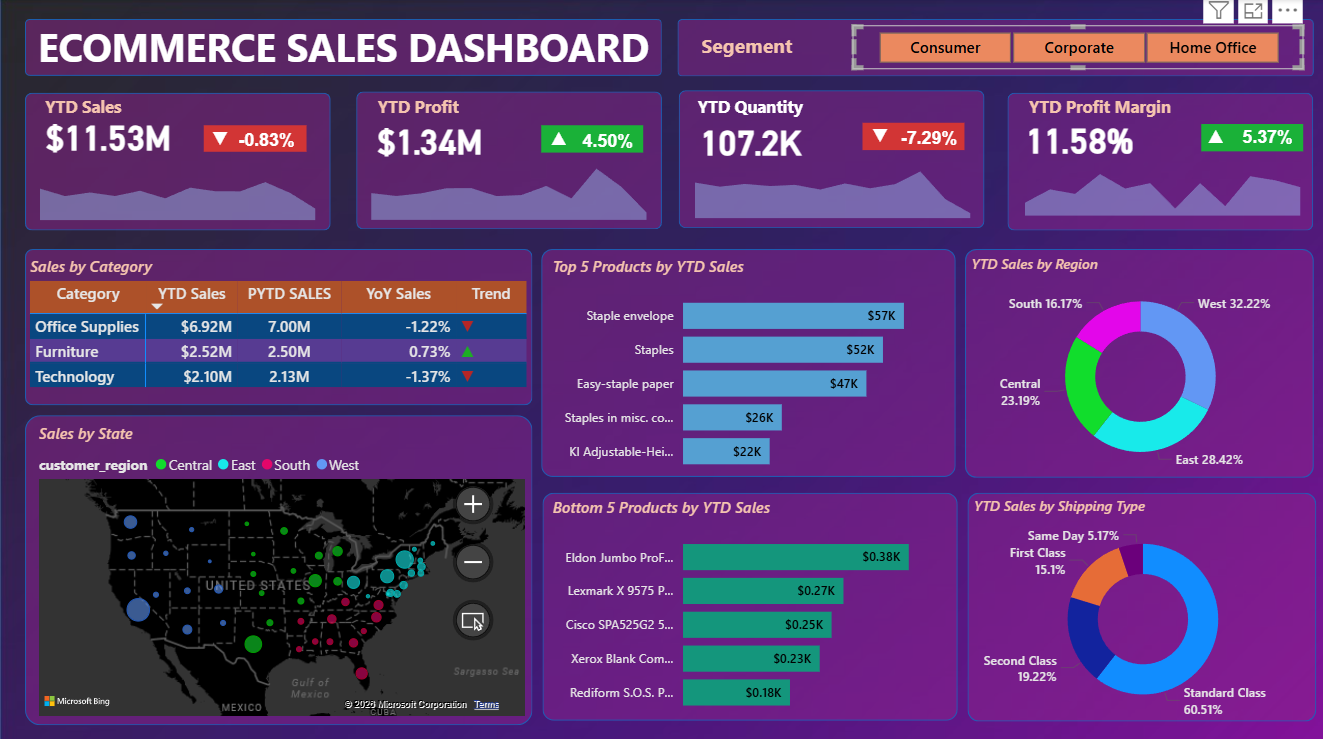

The dashboard page shown, as its layout file describes it:
{"tool":"powerbi","page":{"name":"Page 1","canvas":[1280,720],"ordinal":0},"visuals":[{"type":"shape","box":[24.7,19.2,614.8,54.9],"z":0},{"type":"textbox","box":[24.7,15.1,614.8,64.5],"z":1000},{"type":"shape","box":[24.7,90.6,295,133],"z":2000},{"type":"card","fields":{"Values":["ecommerce_data.YTD SALES"]},"box":[35.7,105.7,137.2,52.1],"z":3000},{"type":"areaChart","fields":{"Category":["Calendar.Month"],"Y":["Sum(ecommerce_data.sales_per_order)"]},"box":[24.7,156.4,295,61.7],"z":4000},{"type":"shape","box":[196.6,121.9,98.9,25.3],"z":5000},{"type":"card","fields":{"Values":["ecommerce_data.YoY Sales"]},"box":[223.7,120.8,68.6,32.9],"z":6000},{"type":"card","fields":{"Values":["ecommerce_data.Sales Icon"]},"box":[194.9,122.1,34.3,26.1],"z":7000},{"type":"textbox","box":[38.4,87.8,105.7,38.4],"z":8000},{"type":"shape","box":[344.4,89.2,295,133.1],"z":9000},{"type":"shape","box":[522.8,122.1,98.8,26.1],"z":10000},{"type":"card","fields":{"Values":["ecommerce_data.YTD PROFIT"]},"box":[331.8,109.8,166.5,51.9],"z":11000},{"type":"areaChart","fields":{"Category":["Calendar.Month"],"Y":["Sum(ecommerce_data.profit_per_order)"]},"box":[344.4,148.2,295,70],"z":12000},{"type":"card","fields":{"Values":["ecommerce_data.YoY Profit"]},"box":[553,122.1,68.6,32.9],"z":13000},{"type":"card","fields":{"Values":["ecommerce_data.Profit Icon"]},"box":[522.8,122.1,34.3,26.1],"z":14000},{"type":"shape","box":[654.5,87.8,295,133.1],"z":15000},{"type":"textbox","box":[359.5,87.8,105.7,38.4],"z":16000},{"type":"shape","box":[832.9,119.4,98.8,26.1],"z":17000},{"type":"card","fields":{"Values":["ecommerce_data.YTD Qty"]},"box":[657.3,111.1,134.5,52.1],"z":18000},{"type":"areaChart","fields":{"Category":["Calendar.Month"],"Y":["Sum(ecommerce_data.order_quantity)"]},"box":[655.9,150.9,295,65.9],"z":19000},{"type":"card","fields":{"Values":["ecommerce_data.YoY Qty"]},"box":[863.1,119.4,68.6,32.9],"z":20000},{"type":"card","fields":{"Values":["ecommerce_data.Qty Icon"]},"box":[832.9,119.4,34.3,28.8],"z":21000},{"type":"textbox","box":[668.3,87.8,155.1,38.4],"z":22000},{"type":"shape","box":[972.9,90.6,295,133.1],"z":23000},{"type":"shape","box":[1159.5,120.8,98.8,26.1],"z":24000},{"type":"card","fields":{"Values":["ecommerce_data.YTD Profit Margin"]},"box":[974.3,108.4,134.5,52.1],"z":25000},{"type":"areaChart","fields":{"Category":["Calendar.Month"],"Y":["ecommerce_data.Profit Margin"]},"box":[974.3,148.2,295,65.9],"z":26000},{"type":"card","fields":{"Values":["ecommerce_data.YoY Profit Margin"]},"box":[1189.8,118.3,68.2,33.4],"z":27000},{"type":"card","fields":{"Values":["ecommerce_data.Profit Margin Icon"]},"box":[1156.4,119.7,33.4,29.2],"z":28000},{"type":"textbox","box":[988,87.8,155.1,38.4],"z":29000},{"type":"shape","box":[24.1,241.3,489.8,150.8],"z":30000},{"type":"pivotTable","title":"Sales by Category","fields":{"Rows":["ecommerce_data.category_name"],"Values":["ecommerce_data.YTD Sales","ecommerce_data.PYTD SALES","ecommerce_data.YoY Sales","ecommerce_data.Sales Icon"]},"box":[24.1,247.3,498.3,150.8],"z":31000},{"type":"shape","box":[24.7,402.1,489.9,299.1],"z":32000},{"type":"map","title":"Sales by State","fields":{"Y":["us_state_long_lat_codes.latitude"],"X":["us_state_long_lat_codes.longitude"],"Size":["ecommerce_data.YTD Sales"],"Series":["ecommerce_data.customer_region"]},"box":[32.6,409,479,288.3],"z":33000},{"type":"shape","box":[522.8,241.5,400,220],"z":34000},{"type":"shape","box":[524.2,476.2,400.7,220],"z":35000},{"type":"barChart","title":"Top 5 Products by YTD Sales","fields":{"Category":["ecommerce_data.product_name"],"Y":["ecommerce_data.YTD Sales"]},"box":[528.3,247,393.8,220.9],"z":36000},{"type":"barChart","title":"Bottom 5 Products by YTD Sales","fields":{"Category":["ecommerce_data.product_name"],"Y":["ecommerce_data.YTD Sales"]},"box":[528.3,480.3,393.8,220.9],"z":37000},{"type":"shape","box":[931.4,241.3,336.6,220.8],"z":38000},{"type":"shape","box":[933.8,476.5,336.6,220.8],"z":39000},{"type":"donutChart","title":"YTD Sales by Region","fields":{"Category":["ecommerce_data.customer_region"],"Y":["ecommerce_data.YTD Sales"]},"box":[932.6,246.1,336.6,219.6],"z":40000},{"type":"donutChart","title":"YTD Sales by Shipping Type","fields":{"Y":["ecommerce_data.YTD Sales"],"Category":["ecommerce_data.shipping_type"]},"box":[935,480.2,336.6,219.6],"z":41000},{"type":"shape","box":[653.9,19.3,614.1,55.5],"z":42000},{"type":"slicer","fields":{"Values":["ecommerce_data.customer_segment"]},"box":[822.8,25.3,435.5,42.2],"z":43000},{"type":"textbox","box":[672,27.7,106.2,38.6],"z":44000}]}

Visuals, with their boxes in screenshot pixels (x1, y1, x2, y2), scaled from the page's 1280x720 canvas onto the 1323x739 screenshot:
shape: 26:20:661:76
textbox: 26:15:661:82
shape: 26:93:330:230
card - ecommerce_data.YTD SALES: 37:108:179:162
areaChart - Calendar.Month x Sum(ecommerce_data.sales_per_order): 26:161:330:224
shape: 203:125:305:151
card - ecommerce_data.YoY Sales: 231:124:302:158
card - ecommerce_data.Sales Icon: 201:125:237:152
textbox: 40:90:149:130
shape: 356:92:661:228
shape: 540:125:642:152
card - ecommerce_data.YTD PROFIT: 343:113:515:166
areaChart - Calendar.Month x Sum(ecommerce_data.profit_per_order): 356:152:661:224
card - ecommerce_data.YoY Profit: 572:125:642:159
card - ecommerce_data.Profit Icon: 540:125:576:152
shape: 676:90:981:227
textbox: 372:90:481:130
shape: 861:123:963:149
card - ecommerce_data.YTD Qty: 679:114:818:168
areaChart - Calendar.Month x Sum(ecommerce_data.order_quantity): 678:155:983:223
card - ecommerce_data.YoY Qty: 892:123:963:156
card - ecommerce_data.Qty Icon: 861:123:896:152
textbox: 691:90:851:130
shape: 1006:93:1310:230
shape: 1198:124:1301:151
card - ecommerce_data.YTD Profit Margin: 1007:111:1146:165
areaChart - Calendar.Month x ecommerce_data.Profit Margin: 1007:152:1312:220
card - ecommerce_data.YoY Profit Margin: 1230:121:1300:156
card - ecommerce_data.Profit Margin Icon: 1195:123:1230:153
textbox: 1021:90:1182:130
shape: 25:248:531:402
"Sales by Category" pivotTable: 25:254:540:409
shape: 26:413:532:720
"Sales by State" map: 34:420:529:716
shape: 540:248:954:474
shape: 542:489:956:715
"Top 5 Products by YTD Sales" barChart: 546:254:953:480
"Bottom 5 Products by YTD Sales" barChart: 546:493:953:720
shape: 963:248:1311:474
shape: 965:489:1313:716
"YTD Sales by Region" donutChart: 964:253:1312:478
"YTD Sales by Shipping Type" donutChart: 966:493:1314:718
shape: 676:20:1311:77
slicer - ecommerce_data.customer_segment: 850:26:1301:69
textbox: 695:28:804:68
